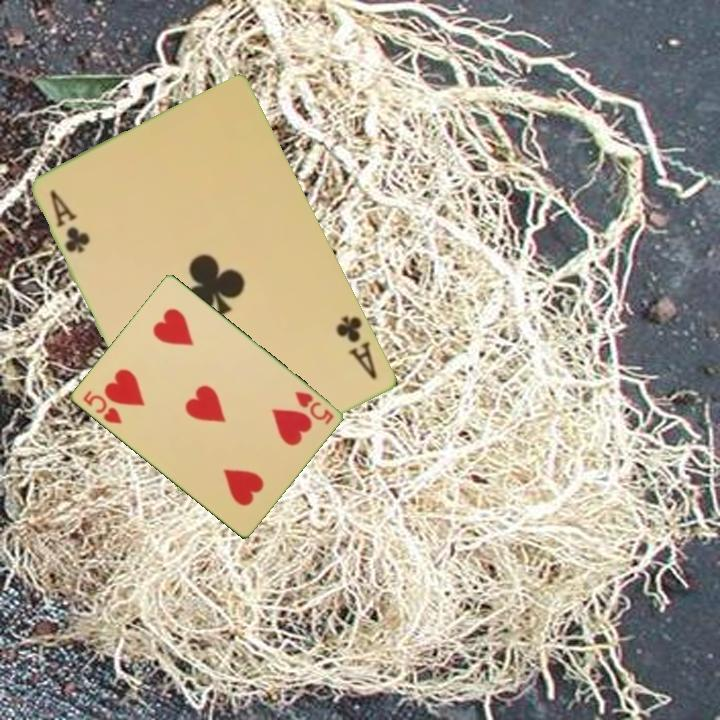5h: (79, 387, 125, 427), (291, 387, 336, 427)
Ac: (332, 312, 381, 383), (47, 186, 94, 256)
